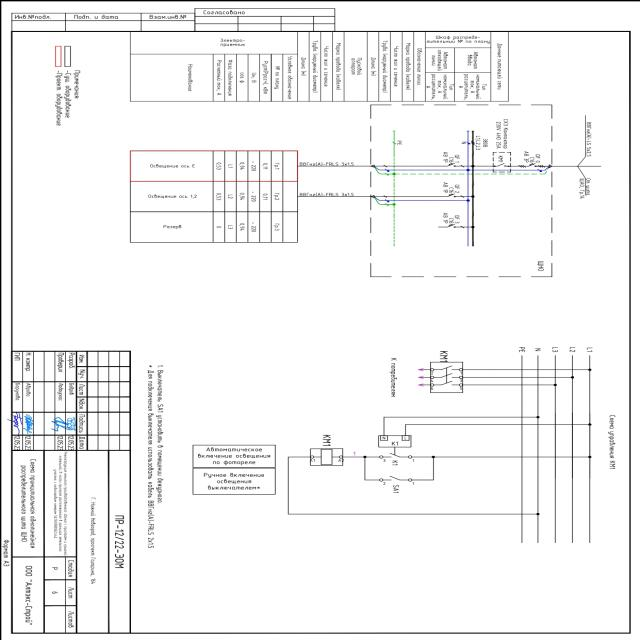-: (494, 118, 510, 148), (521, 150, 535, 162), (441, 180, 453, 193), (441, 150, 454, 162), (441, 211, 453, 223), (536, 260, 543, 270)
KM: (495, 162, 507, 166)
QF: (526, 162, 536, 168), (445, 162, 456, 166), (445, 192, 456, 196), (446, 224, 457, 228)
